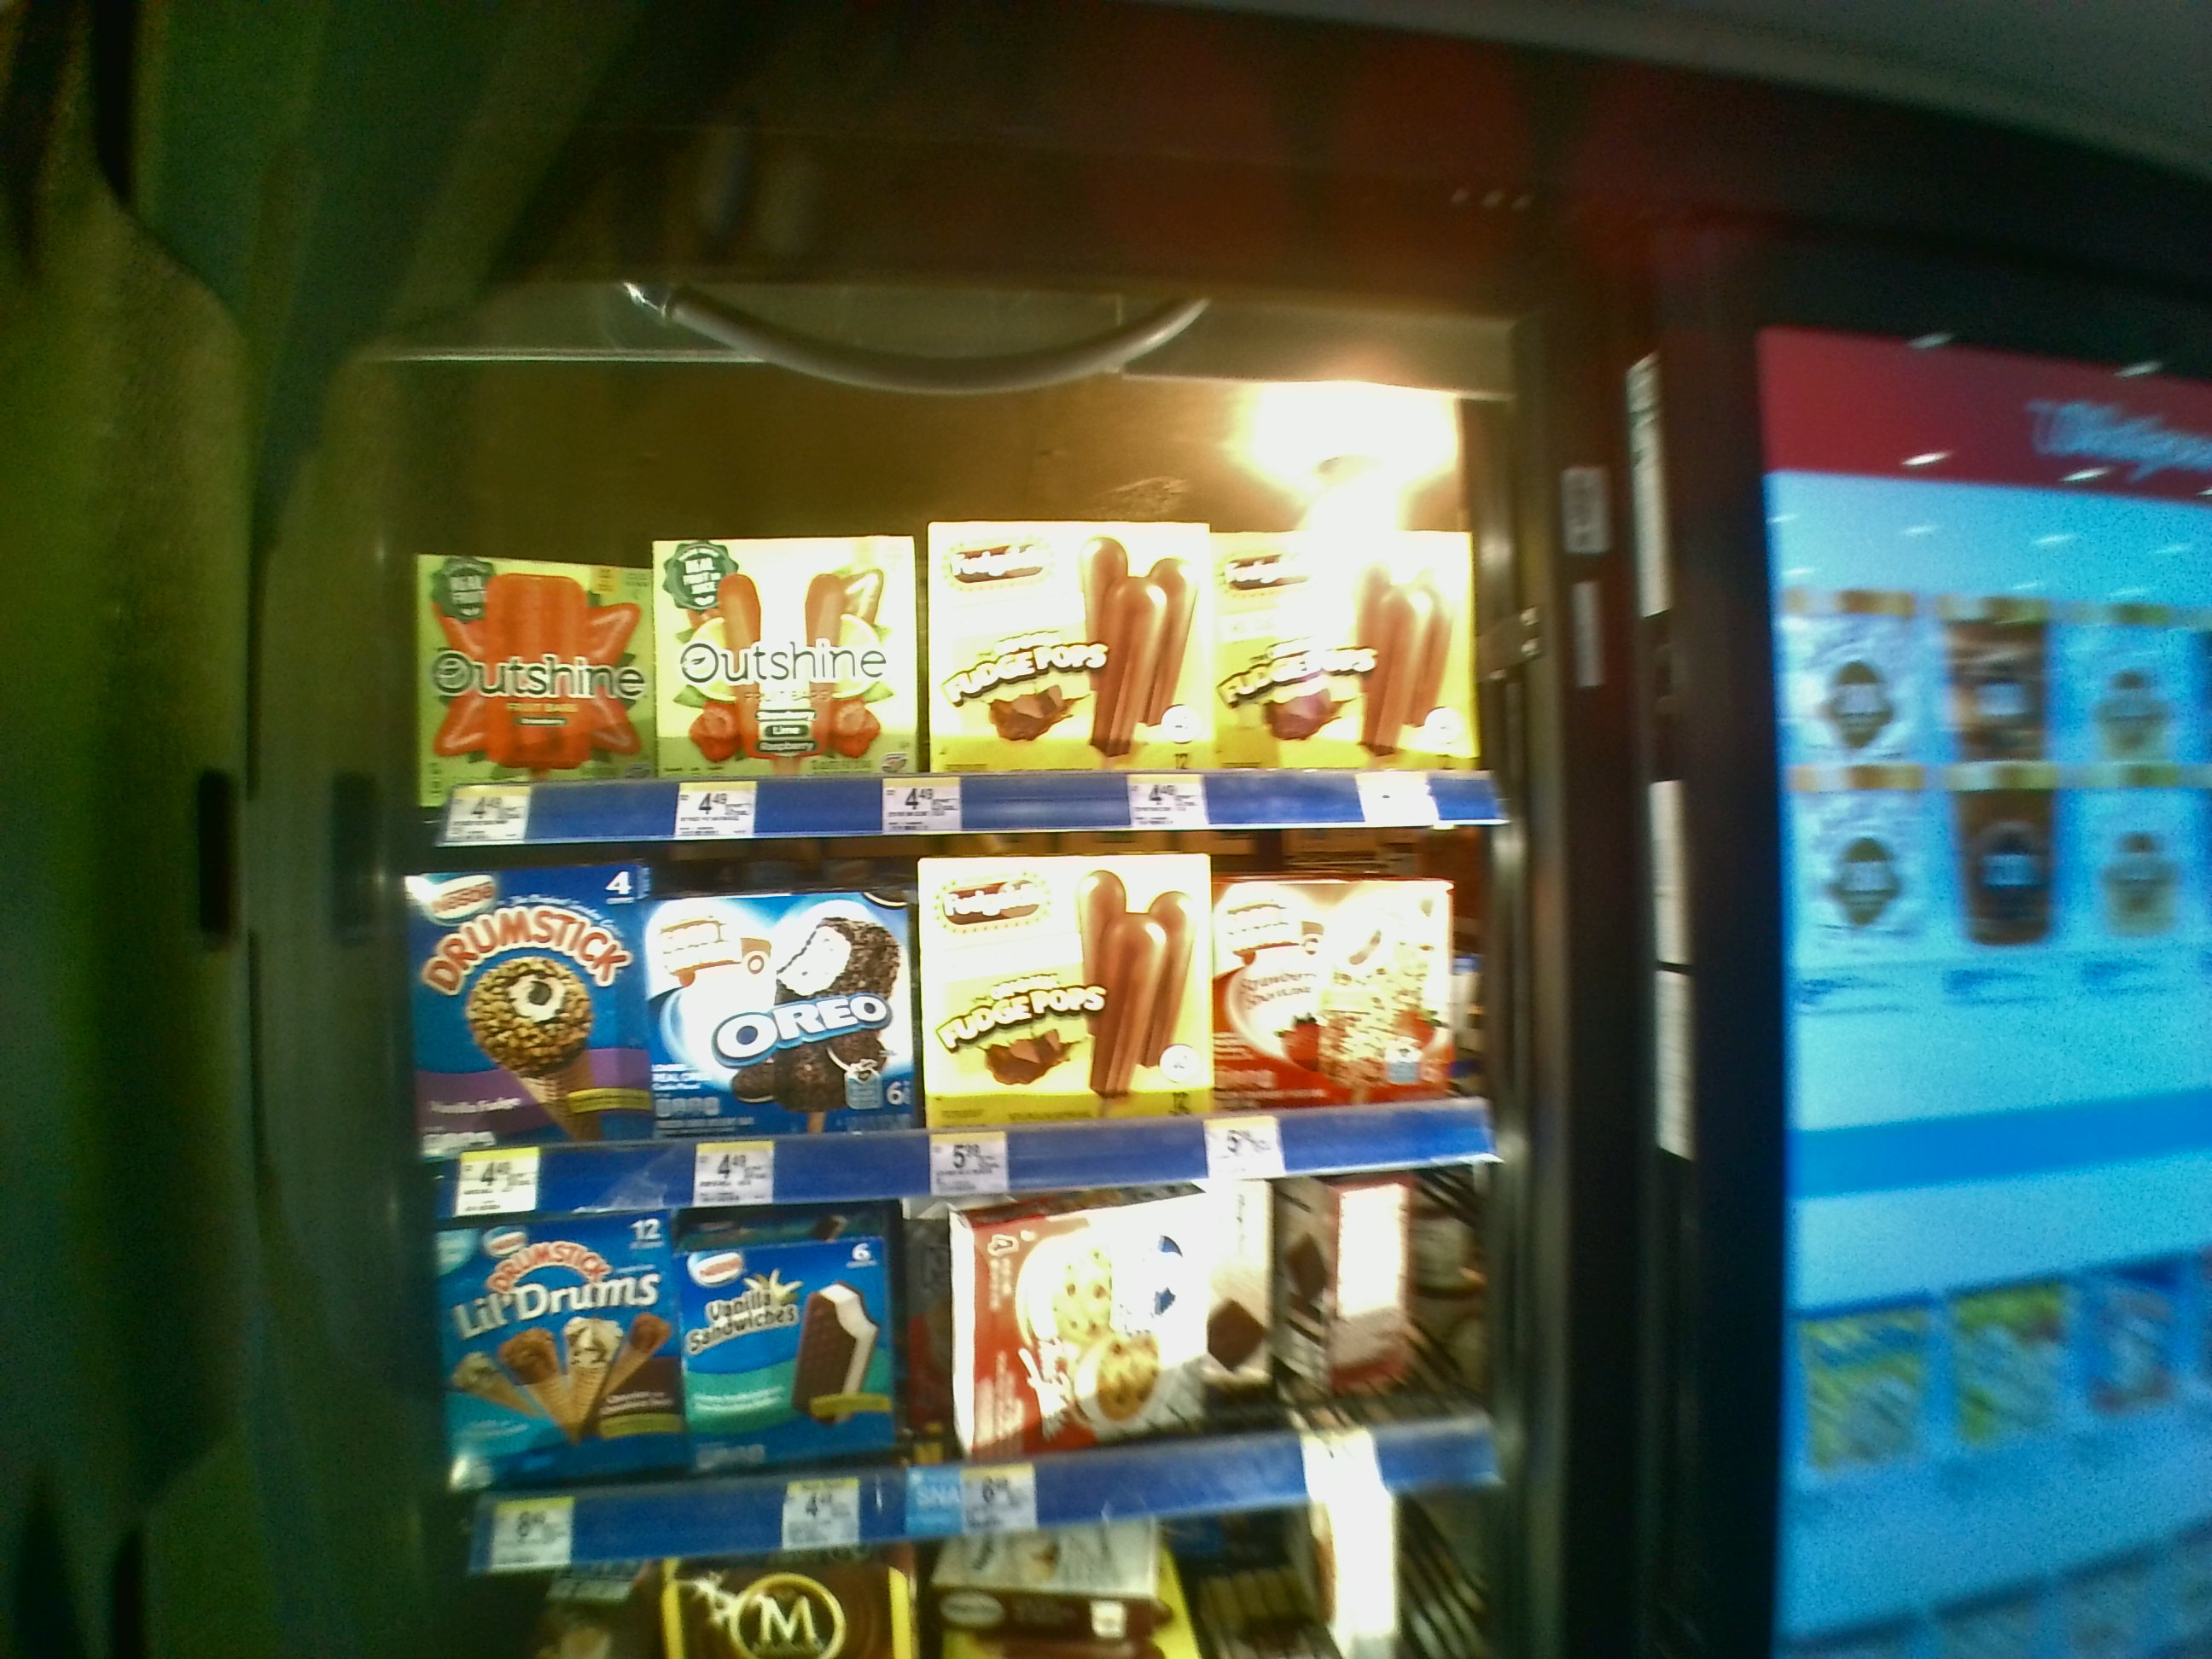shelf: (381, 422, 1503, 852), (409, 1211, 1510, 1572), (387, 864, 1510, 1195)
